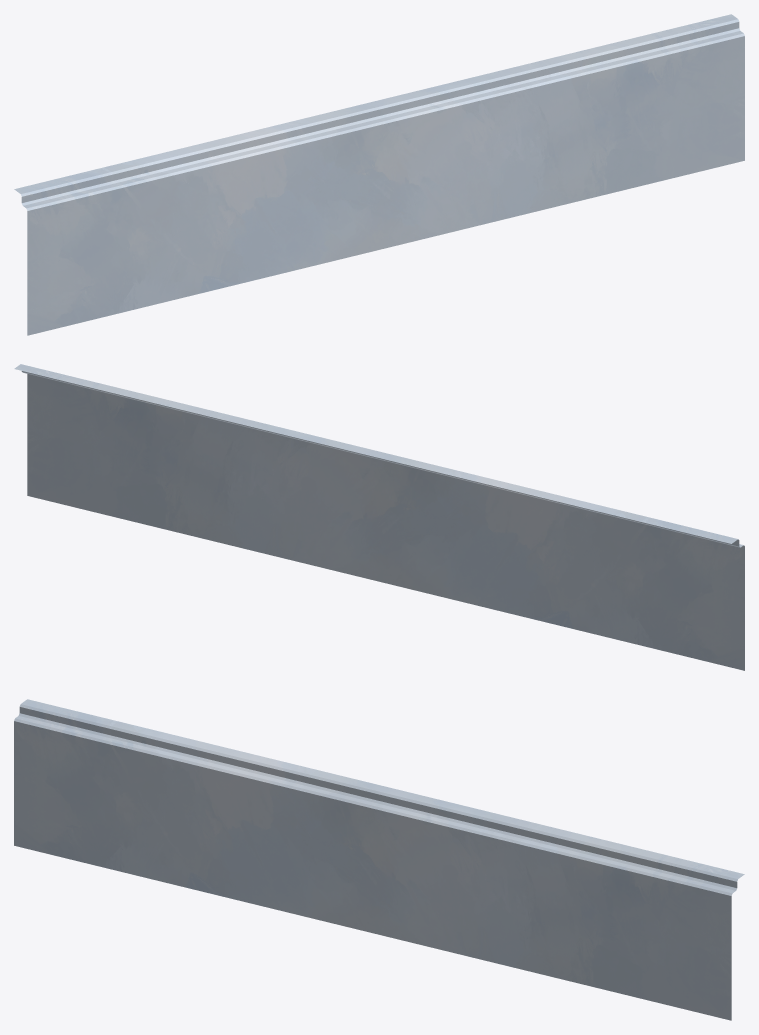
The model's file is Frame bottom.fbx.
The picture shows the model from 3 angles, top to bottom: view 1: azimuth 30°, elevation 25°; view 2: azimuth 150°, elevation 25°; view 3: azimuth 330°, elevation 25°; orthographic projection.
Parts seen in each view (by area): view 1: Frame bottom; view 2: Frame bottom; view 3: Frame bottom.
Boxes of the visible parts, x1,y1,x2,y2 form: Frame bottom: (14, 14, 744, 335); Frame bottom: (14, 364, 744, 670); Frame bottom: (14, 699, 744, 1020).
Size of the model in its own units: 200 by 36.41 by 6.47.
